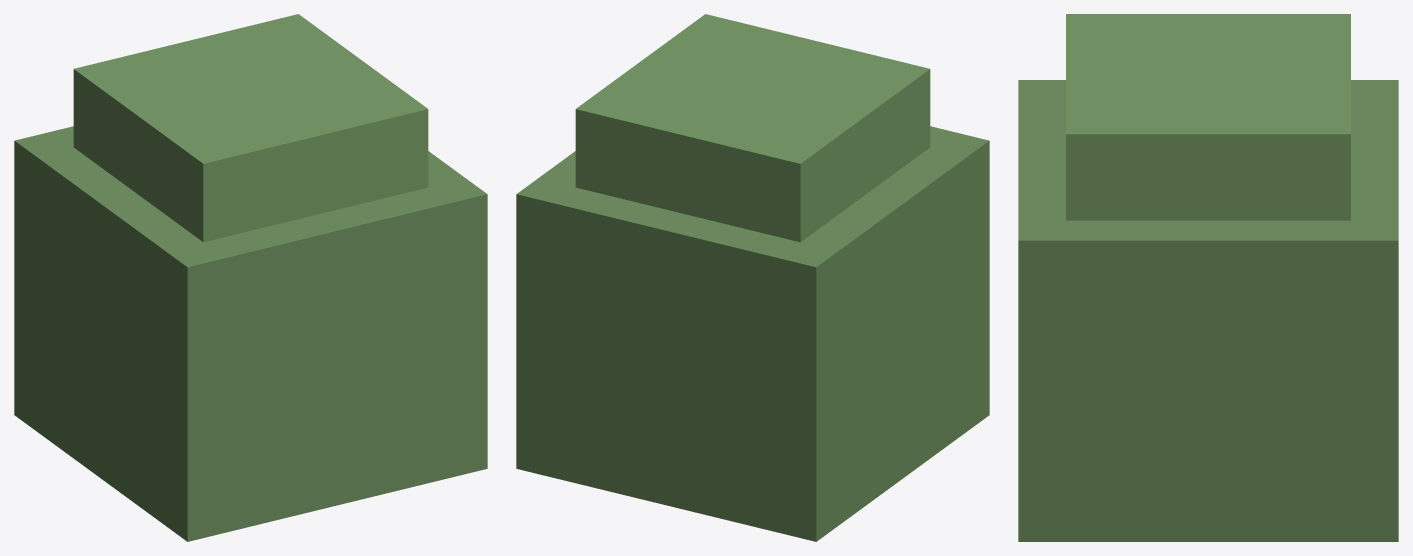
The model's file is arbusto_comun_01.glb.
The picture shows the model from 3 angles, left to right: view 1: azimuth 30°, elevation 25°; view 2: azimuth 150°, elevation 25°; view 3: azimuth 270°, elevation 25°; orthographic projection. The views are drawn at different scales.
Visible parts, largest first — view 1: arbusto_comun_01; view 2: arbusto_comun_01; view 3: arbusto_comun_01.
Part boxes in pixels (x1,y1,x2,y2): arbusto_comun_01: (14, 14, 487, 541); arbusto_comun_01: (516, 14, 989, 541); arbusto_comun_01: (1018, 14, 1398, 541).
Size of the model in its own units: 0.8 by 0.9 by 0.8.
